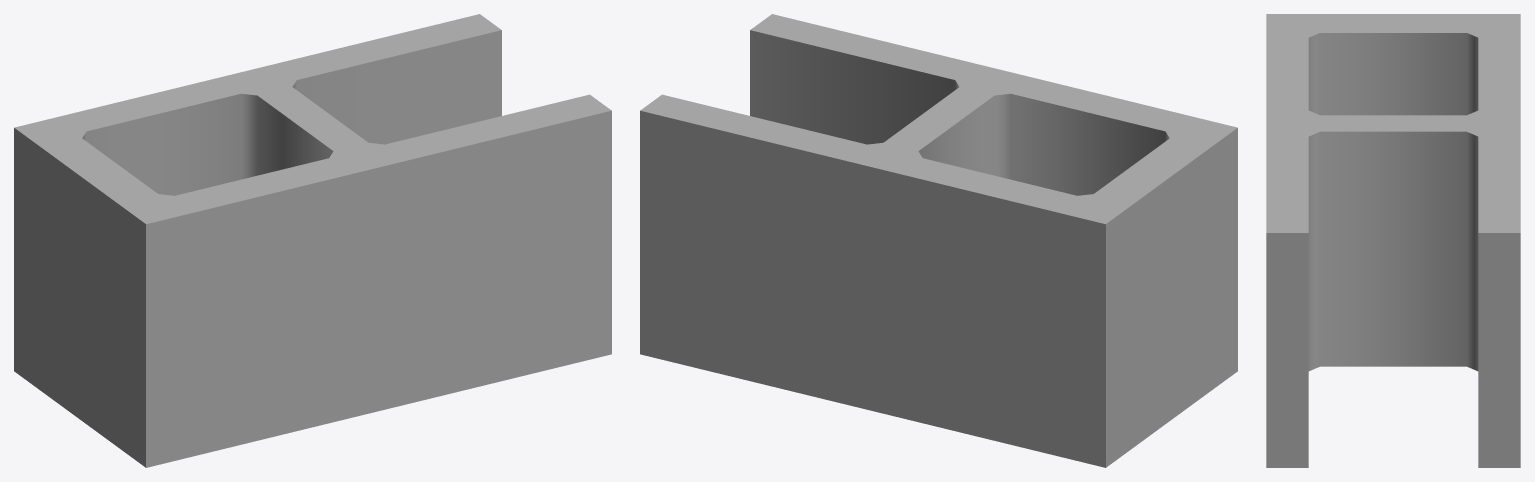
The model's file is 58134a36-83e5-43dc-87d9-ed65bbdcb8b3.glb.
The picture shows the model from 3 angles, left to right: view 1: azimuth 30°, elevation 25°; view 2: azimuth 150°, elevation 25°; view 3: azimuth 270°, elevation 25°; orthographic projection. The views are drawn at different scales.
Visible parts, largest first — view 1: CMU-Ablock; view 2: CMU-Ablock; view 3: CMU-Ablock.
Boxes of the visible parts, x1,y1,x2,y2 form: CMU-Ablock: [14, 14, 611, 467]; CMU-Ablock: [640, 14, 1237, 467]; CMU-Ablock: [1266, 14, 1520, 467].
Size of what is drawn, in the model's own units: 0.3999 by 0.2 by 0.1964.
Materials: 1 (1 with a texture image).
